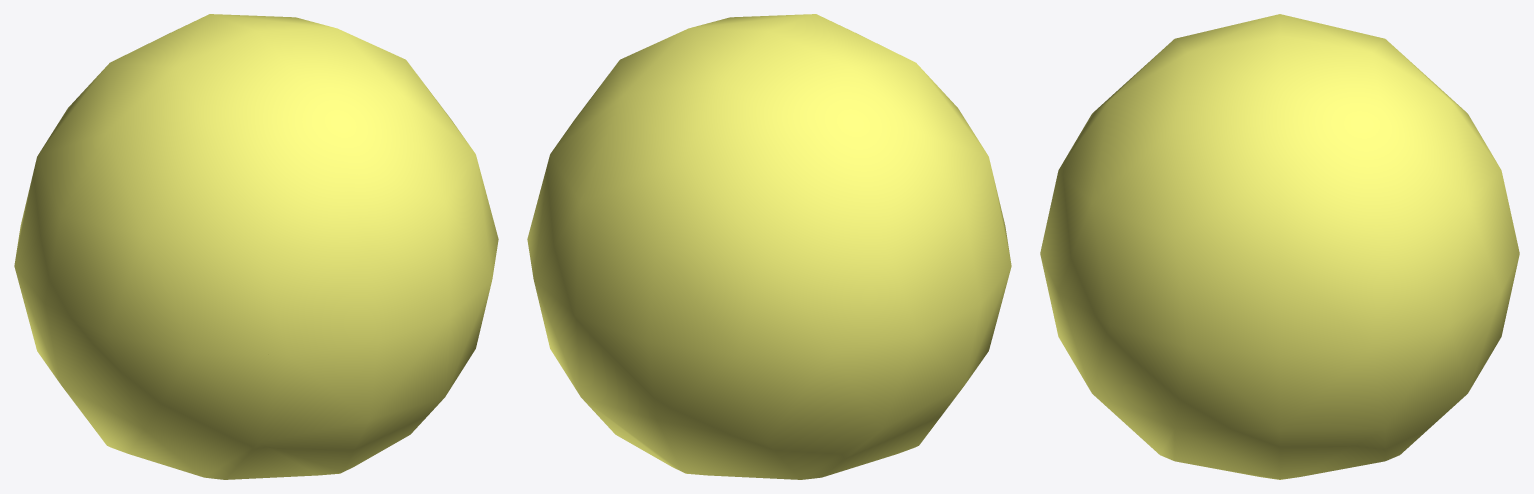
3 views of the same model, side by side, from view 1: azimuth 30°, elevation 25°; view 2: azimuth 150°, elevation 25°; view 3: azimuth 270°, elevation 25° (orthographic).
Parts seen in each view (by area): view 1: 32474.dat; view 2: 32474.dat; view 3: 32474.dat.
Boxes of the visible parts, <box> form: 32474.dat: <box>14,14,498,479</box>; 32474.dat: <box>527,14,1011,479</box>; 32474.dat: <box>1040,14,1519,479</box>.
Bounding box in the file's own units: 0.0102 × 0.00882 × 0.0102.
